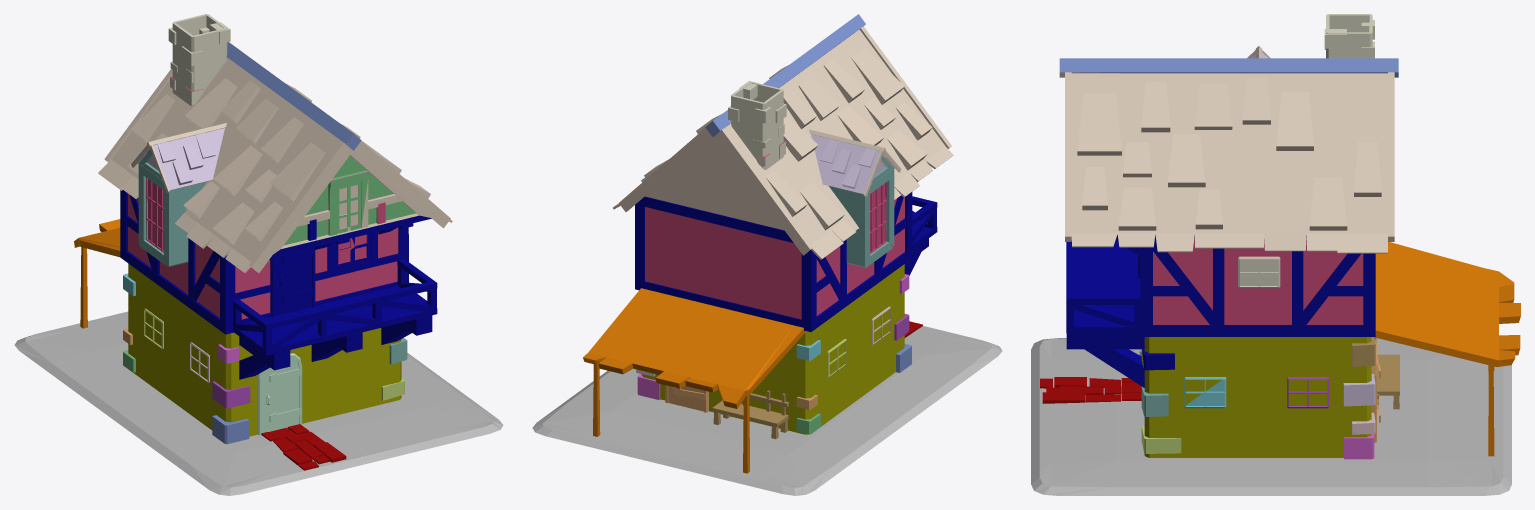
The model's file is full_13.glb.
3 views of the same model, side by side, from view 1: azimuth 30°, elevation 25°; view 2: azimuth 150°, elevation 25°; view 3: azimuth 270°, elevation 25° (orthographic). The views are drawn at different scales.
Parts seen in each view (by area): view 1: world; view 2: world; view 3: world.
Boxes of the visible parts, x1=… form: world: x1=14, y1=14, x2=503, y2=495; world: x1=532, y1=14, x2=1002, y2=495; world: x1=1031, y1=14, x2=1520, y2=495.
Size of the model in its own units: 0.5013 by 0.5627 by 0.6574.
